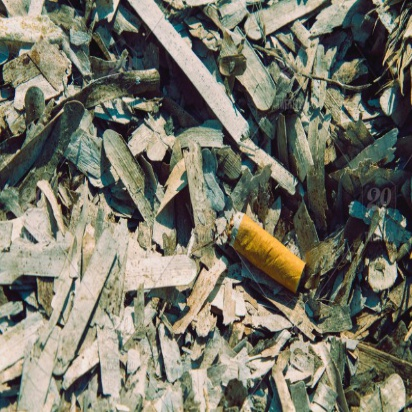cigarette: (205, 202, 319, 300)
